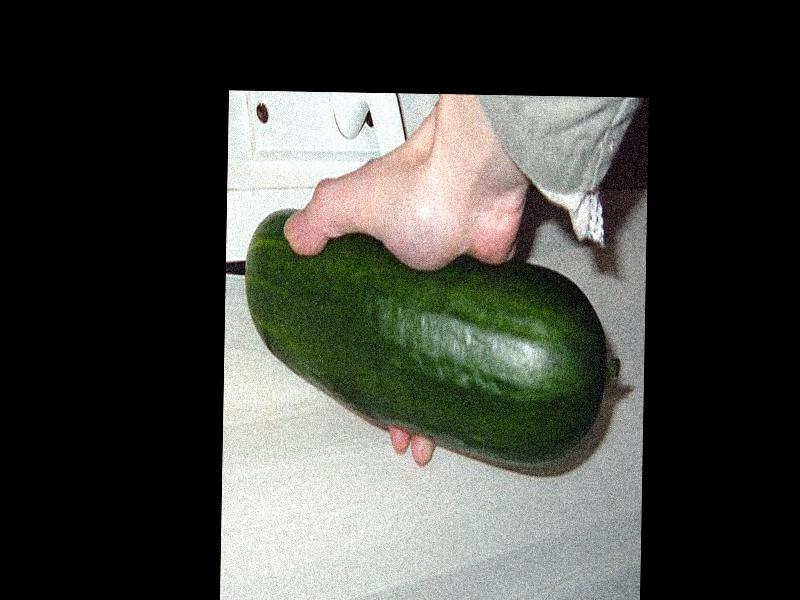Cucumber: (241, 210, 623, 476)
